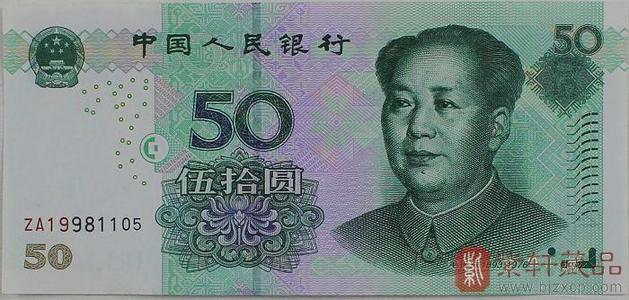rmb: (1, 1, 629, 300)
